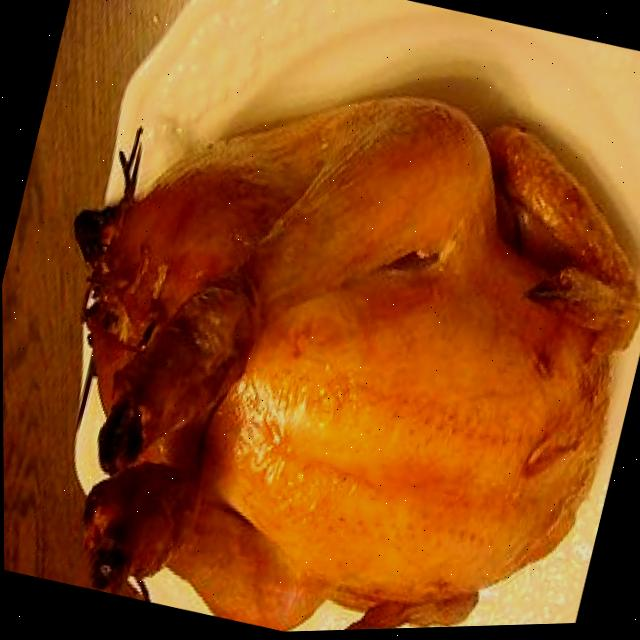鸡肉料理 含炸鸡: (0, 12, 640, 640)
